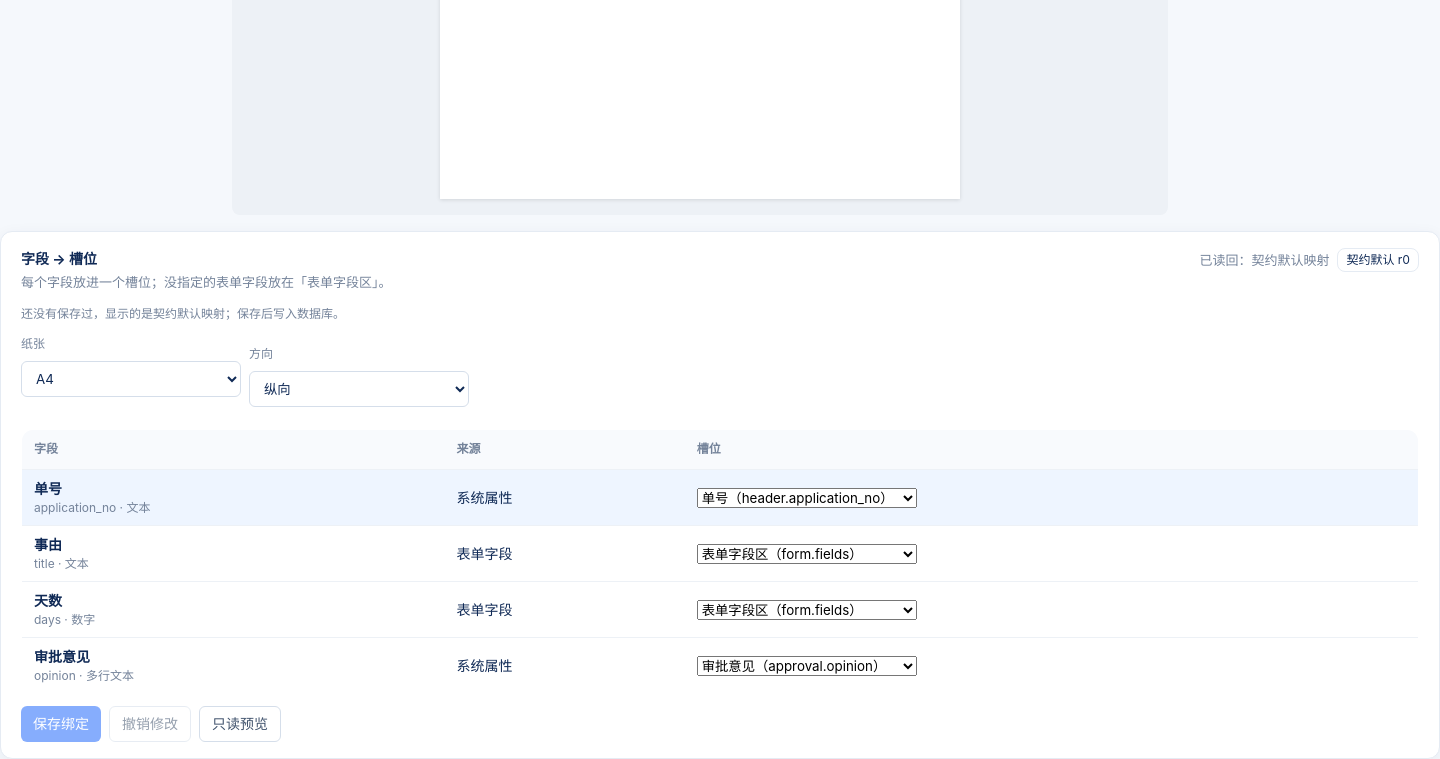
it: paper and orientation share the revision guard (DPO-C5) › treats a paper change as dirty and sends it with expected_revision
(page scrolled)
Select "A5" in the dropdown with test id "designer-paper-size" at (131, 379), box [21,361,241,397]
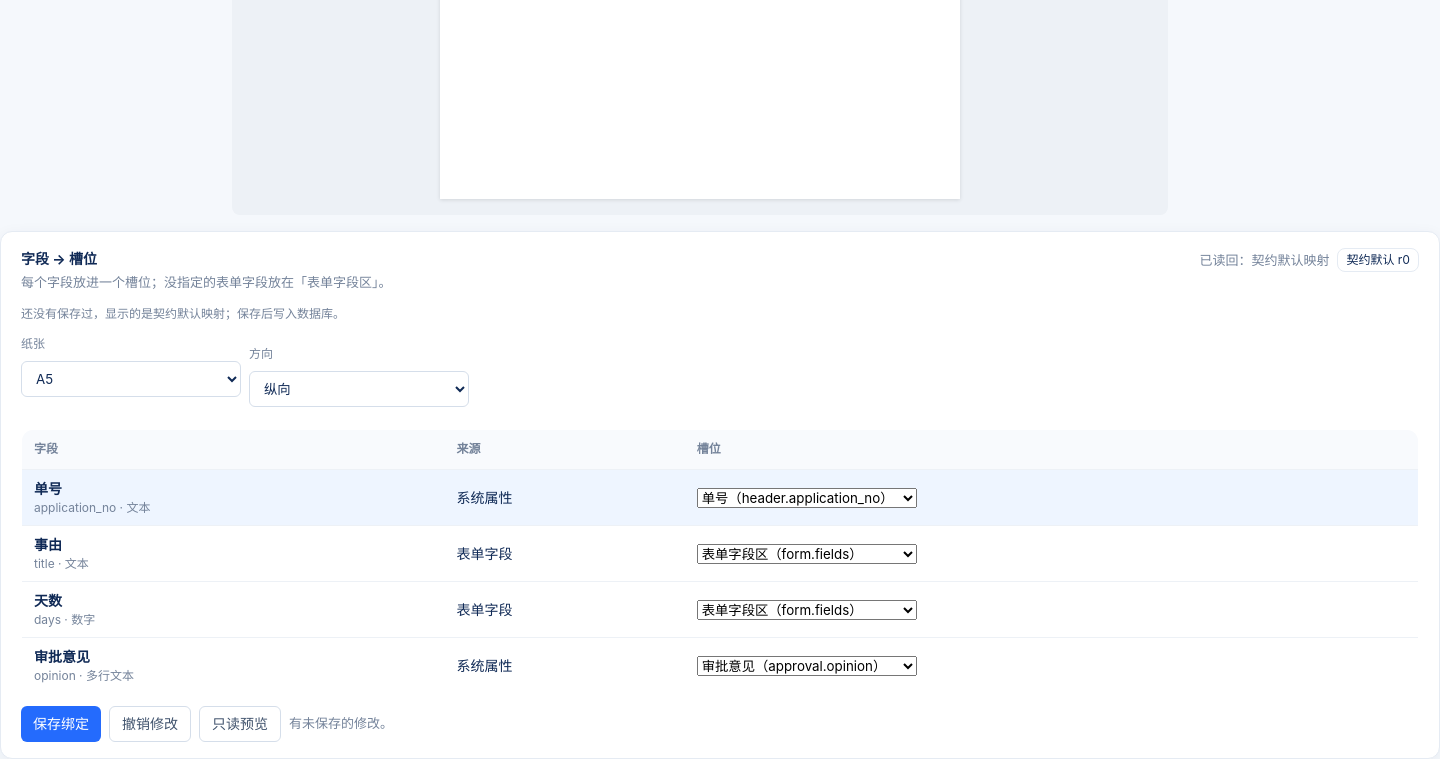
Select "横向" in the dropdown with test id "designer-orientation" at (359, 389), box [249,371,469,407]
(page scrolled)
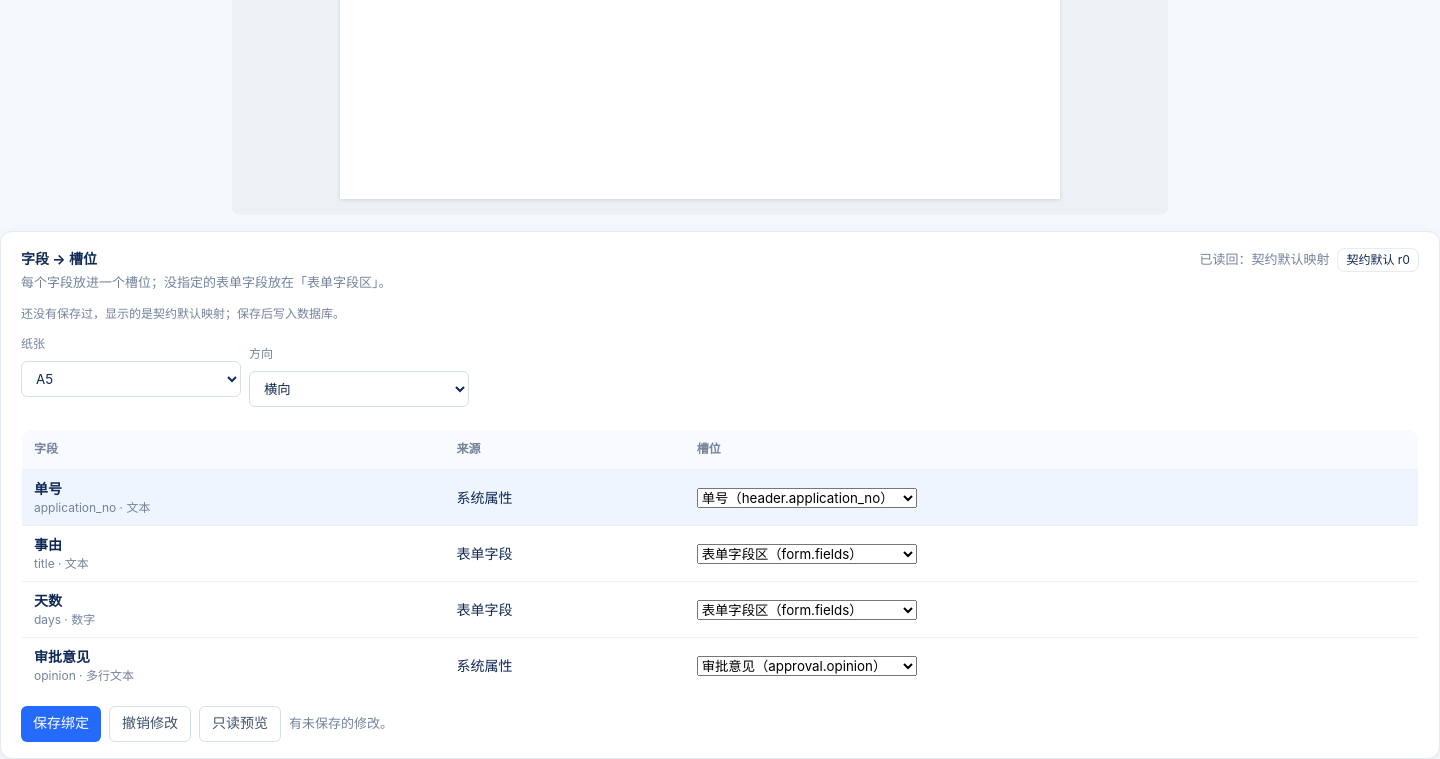
Expected: the text with test id "designer-binding-dirty" shows "未保存", [289,714,393,733]
Click the button with test id "designer-open-preview" at (240, 724), box [199,706,281,742]
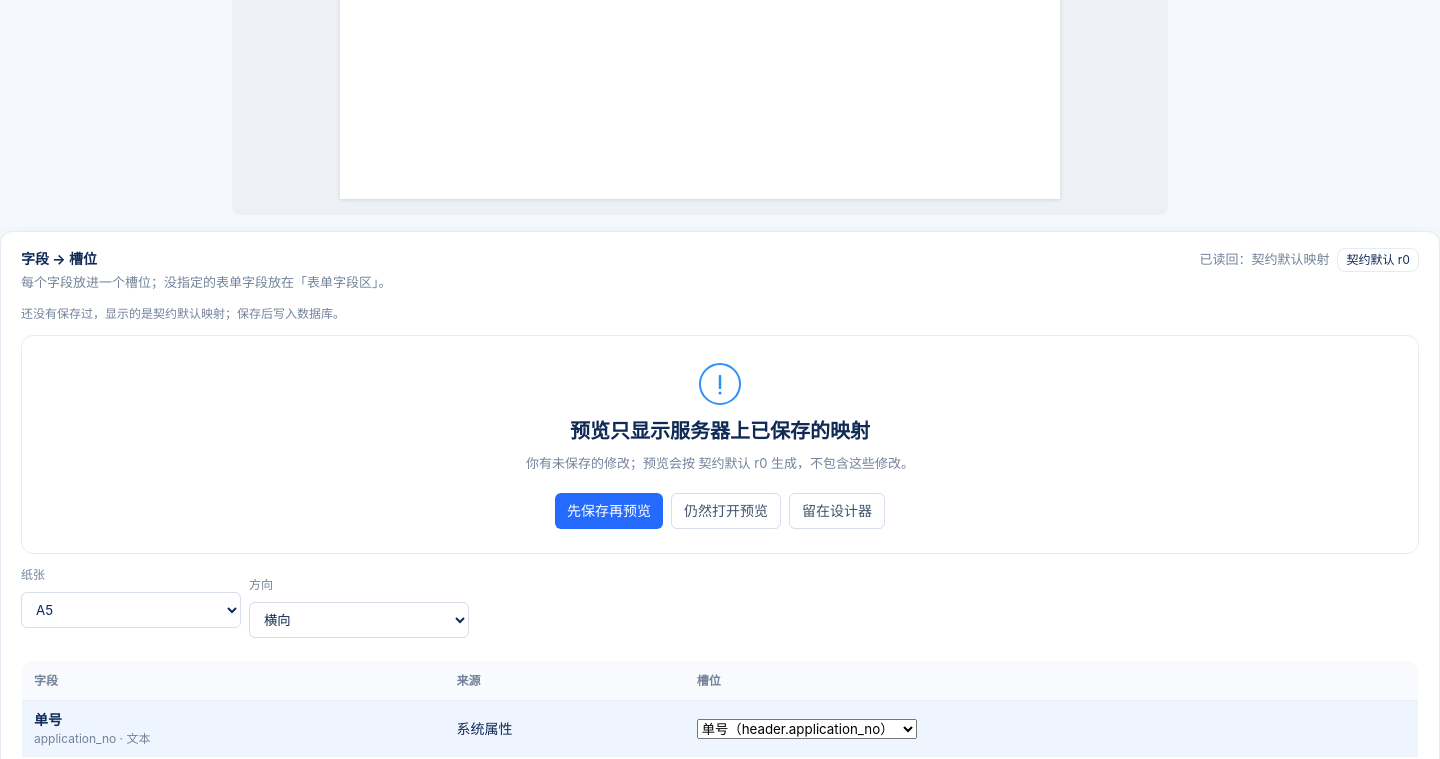
Expected: the message "预览只显示服务器上已保存的映射 你有未保存的修改；预览会按 契约默认 r0 生成，不包含这些修改。 先保存再预览 仍然打开预览 留在设计器" is shown, [21,335,1419,554]
Click the button with test id "designer-preview-cancel" at (837, 511), box [789,493,885,529]
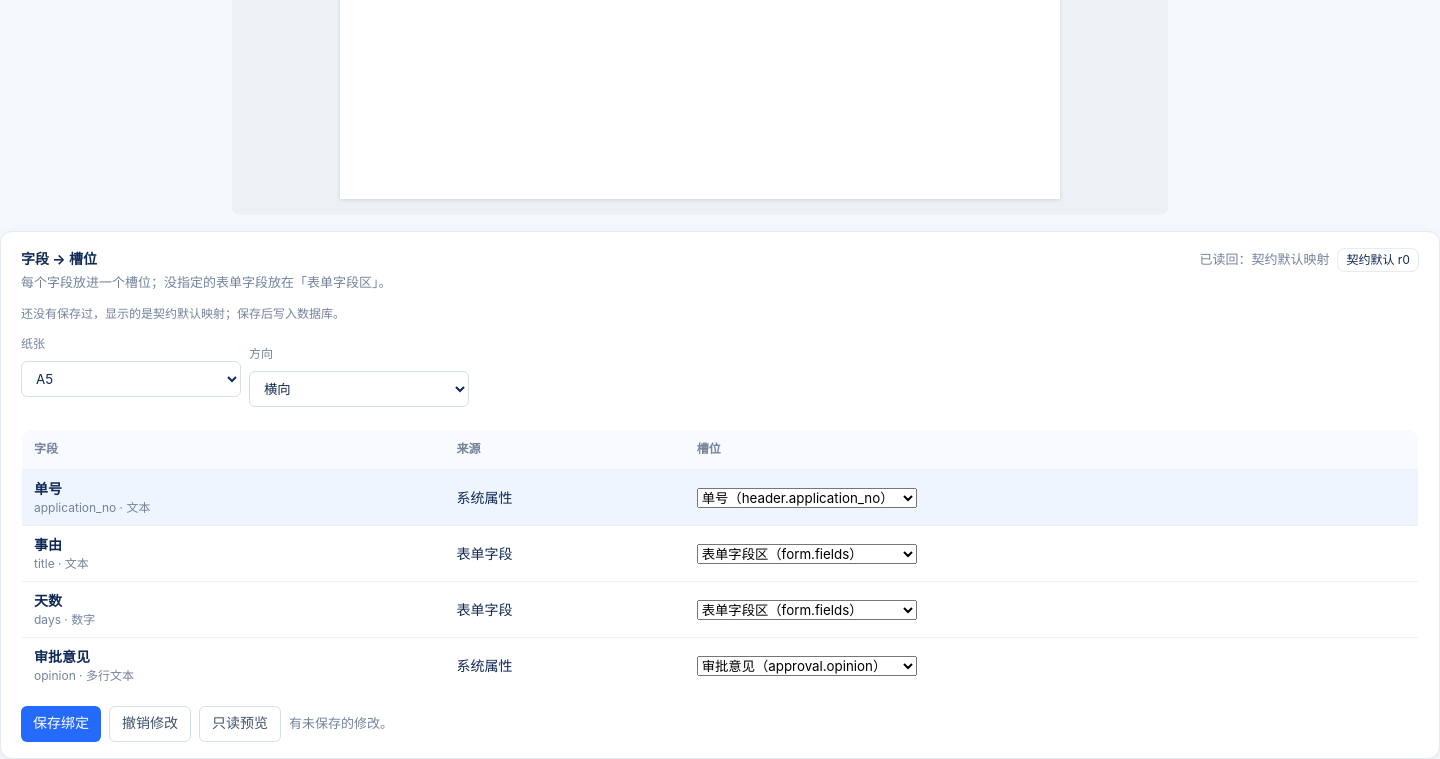
Click the button with test id "designer-binding-save" at (61, 724), box [21,706,101,742]
(page scrolled)
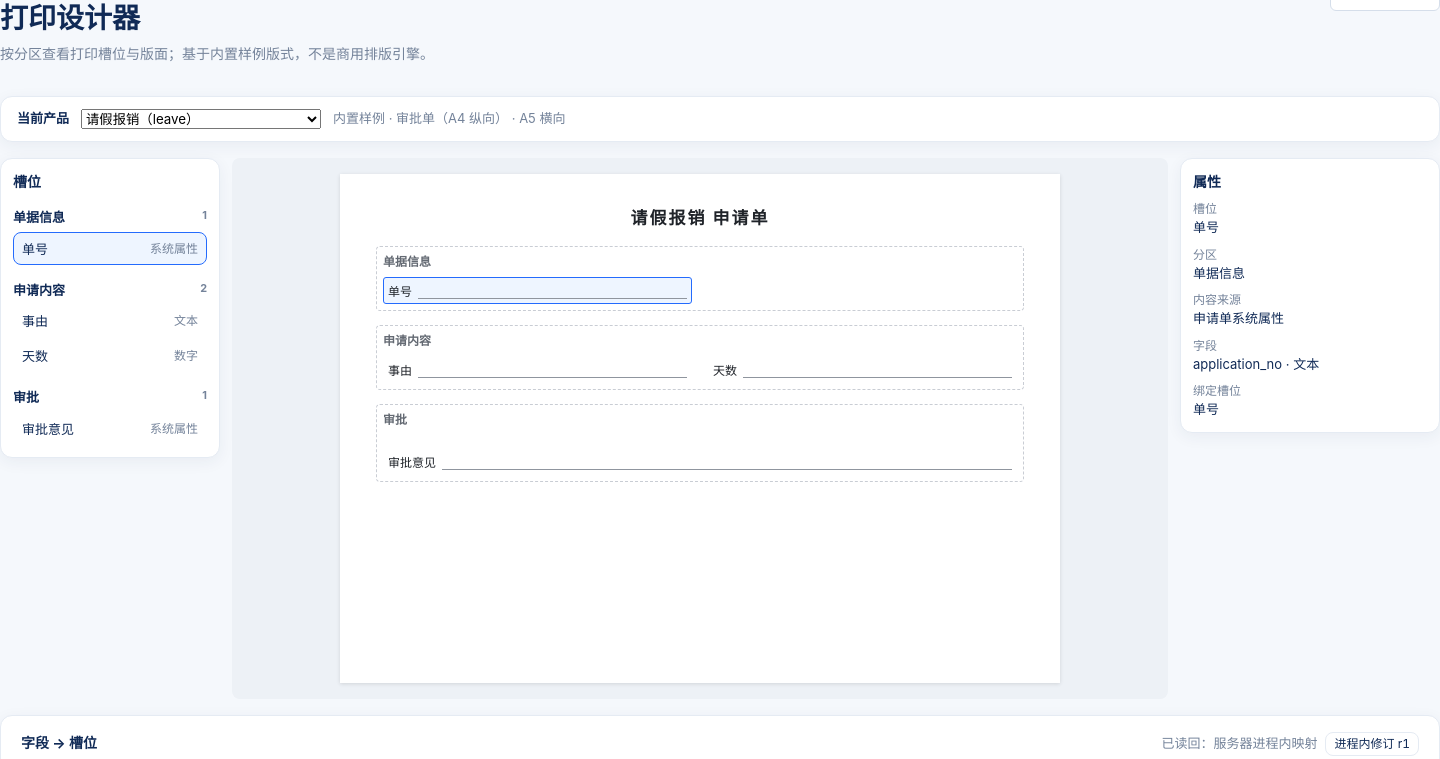
Expected: the dropdown with test id "designer-product-select" is enabled, [81,109,321,129]
